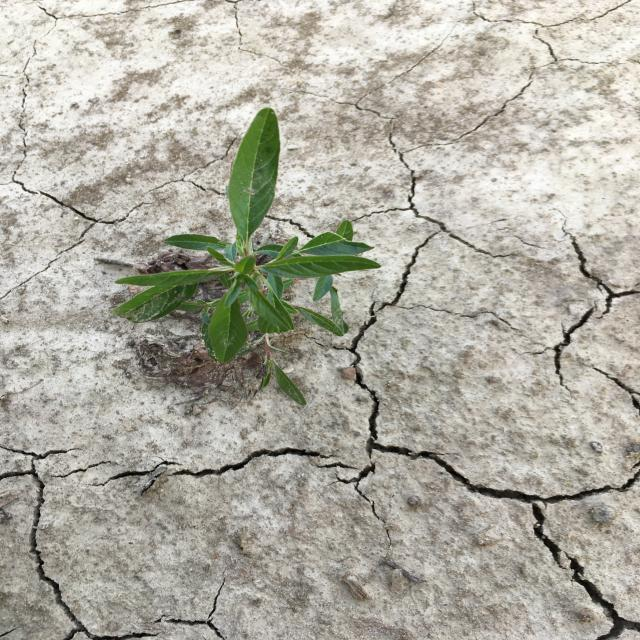Waterhemp: (111, 106, 384, 407)
